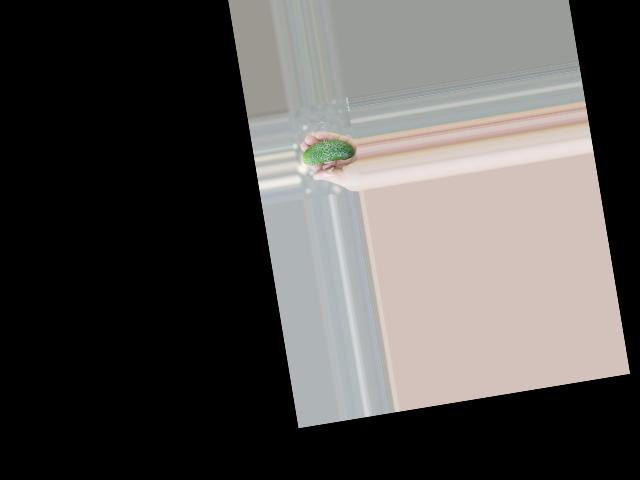cucumber: (300, 135, 355, 166)
